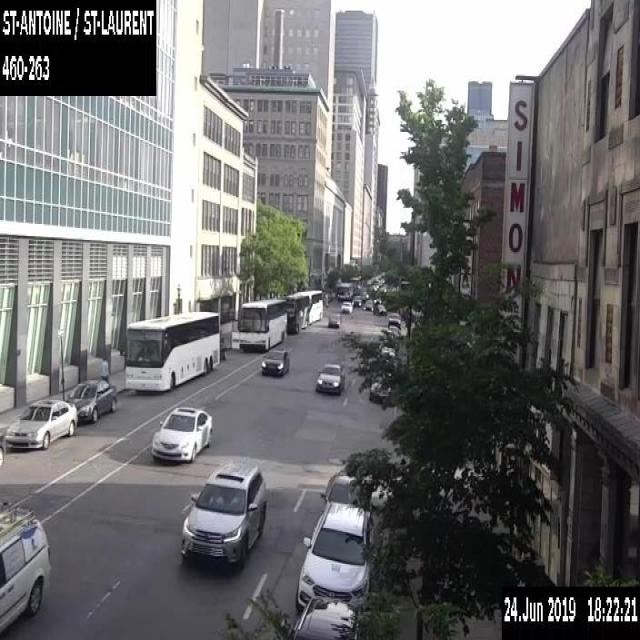bus: (124, 308, 220, 389), (230, 298, 286, 350), (278, 288, 322, 332), (337, 281, 353, 300)
pedestrian: (100, 355, 108, 382)
vehicle: (179, 460, 269, 567), (294, 499, 374, 611), (0, 500, 53, 639), (4, 397, 77, 450), (150, 404, 212, 463), (289, 596, 362, 639), (65, 379, 116, 421), (319, 472, 370, 508), (314, 362, 344, 394), (261, 346, 289, 374), (369, 381, 390, 401), (0, 429, 6, 467), (387, 312, 400, 328), (219, 334, 227, 359), (380, 345, 394, 356), (328, 314, 340, 326), (340, 300, 352, 312), (373, 303, 386, 314), (388, 324, 398, 337), (364, 298, 374, 310), (351, 295, 362, 305), (360, 290, 368, 299), (373, 296, 381, 303)
